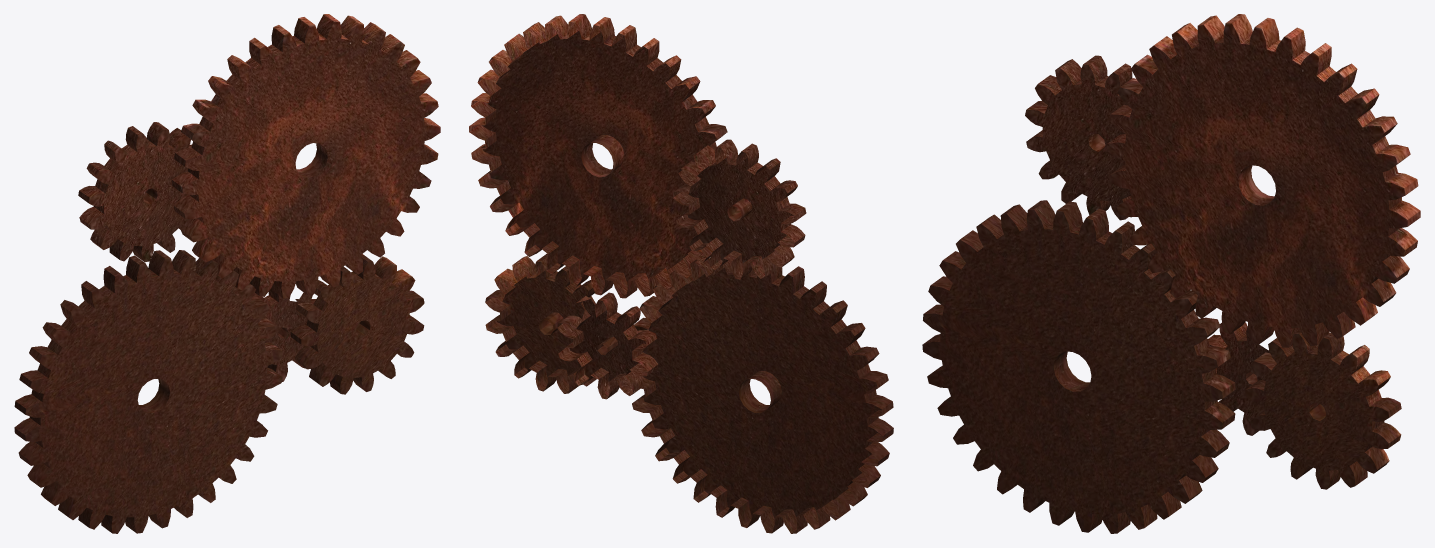
The model's file is part-gears.glb.
3 views of the same model, side by side, from view 1: azimuth 30°, elevation 25°; view 2: azimuth 150°, elevation 25°; view 3: azimuth 330°, elevation 25° (orthographic). The views are drawn at different scales.
Parts seen in each view (by area): view 1: Rusty_Gears; view 2: Rusty_Gears; view 3: Rusty_Gears.
Part boxes in pixels (x1,y1,x2,y2): Rusty_Gears: (14,14,440,533); Rusty_Gears: (469,14,893,533); Rusty_Gears: (922,14,1420,533).
Size of the model in its own units: 7.21 by 7.75 by 0.702.
1 material, 1 textured.
